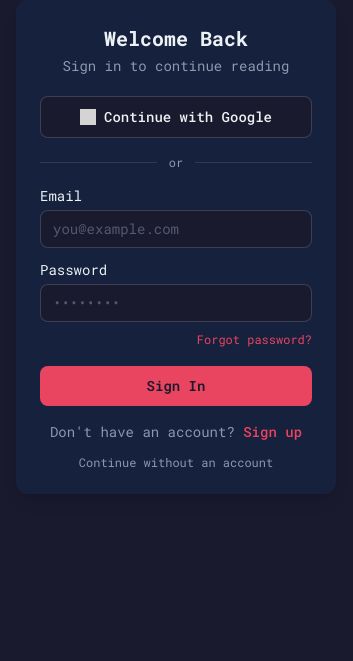
Login Page › Sign Up Flow › shows error message on sign up failure
The width and height of the screenshot is (353, 661).
Click the button "Sign up" at (273, 432), box x1=243 y1=422 x2=302 y2=442
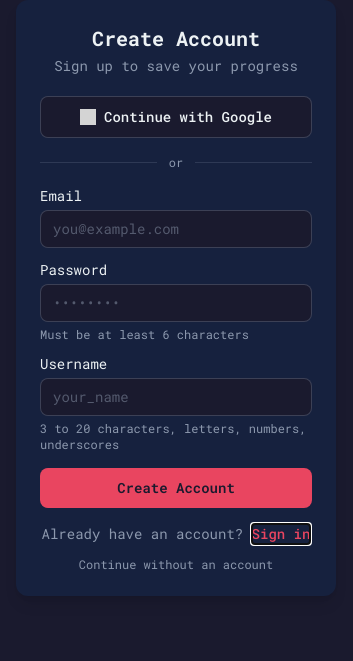
Type "testuser" into the field labelled "Username" at (176, 397), box x1=40 y1=378 x2=312 y2=416
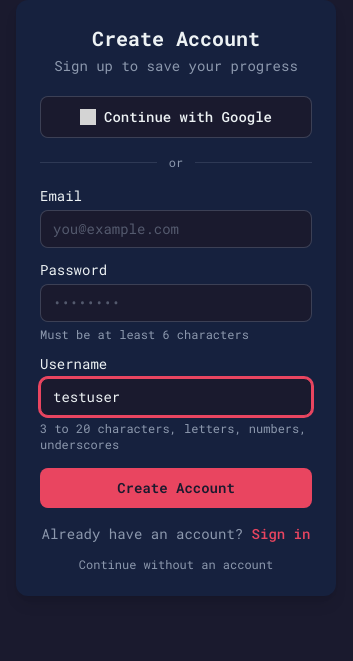
Type "existing@example.com" into the field labelled "Email" at (176, 229), box x1=40 y1=210 x2=312 y2=248
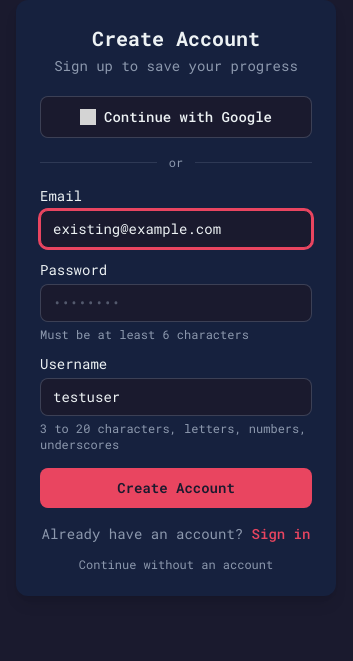
Type "password123" into the password field labelled "Password" at (176, 303), box x1=40 y1=284 x2=312 y2=322
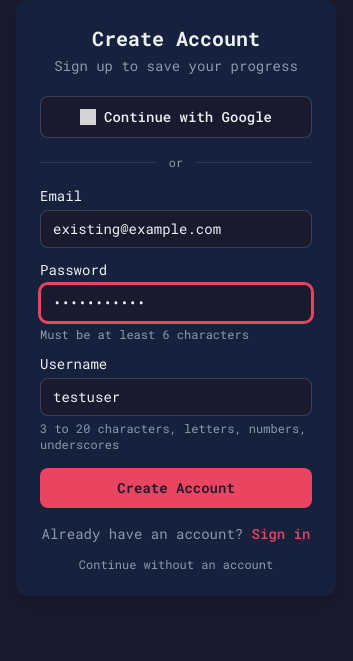
Click the button "Create Account" at (176, 488), box x1=40 y1=468 x2=312 y2=508
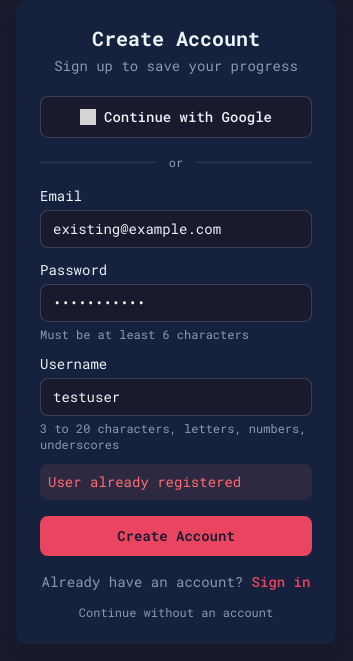
Result: the text "User already registered" is shown at x1=40 y1=464 x2=312 y2=500
